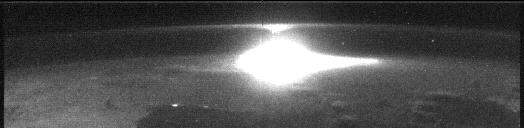negative: (252, 24, 299, 34)
